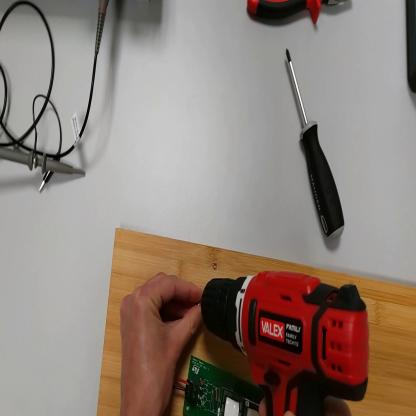electric screwdriver: (201, 270, 369, 416)
hand: (118, 272, 205, 415), (259, 389, 352, 413)
high voltage board: (175, 355, 266, 413)
oscilloscope probe tip: (2, 144, 87, 180)
pliers: (248, 2, 351, 28)
screwdriver-: (286, 47, 346, 244)
welder station: (406, 2, 416, 93)
working area: (97, 231, 415, 416)
